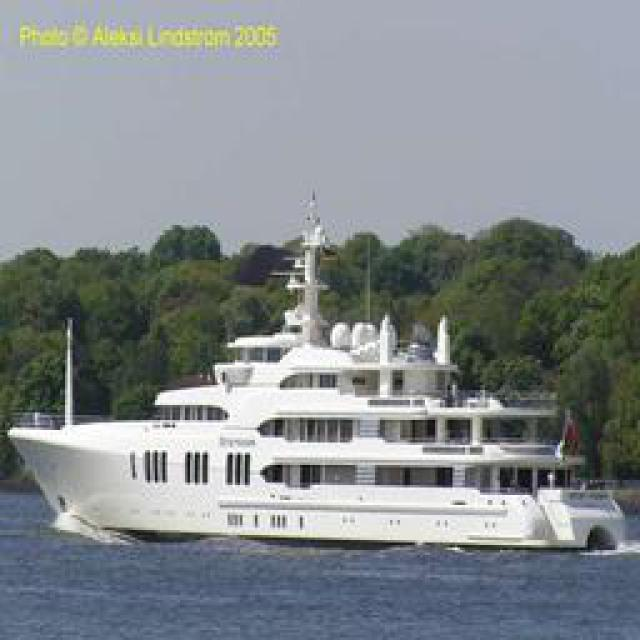Ship: (10, 295, 635, 558)
